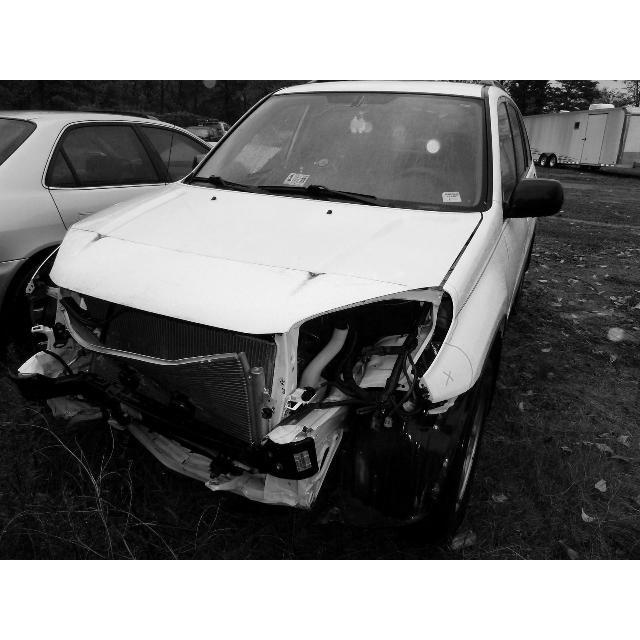bonnet-dent: (51, 203, 473, 323)
front-bumper-dent: (28, 334, 438, 475)
